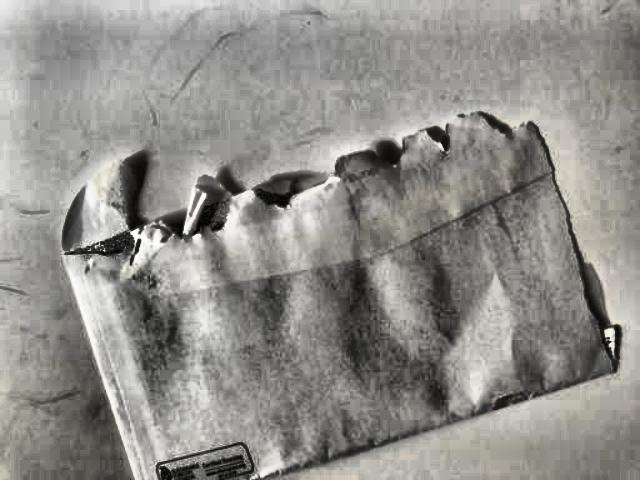Paper: (0, 73, 640, 480)
